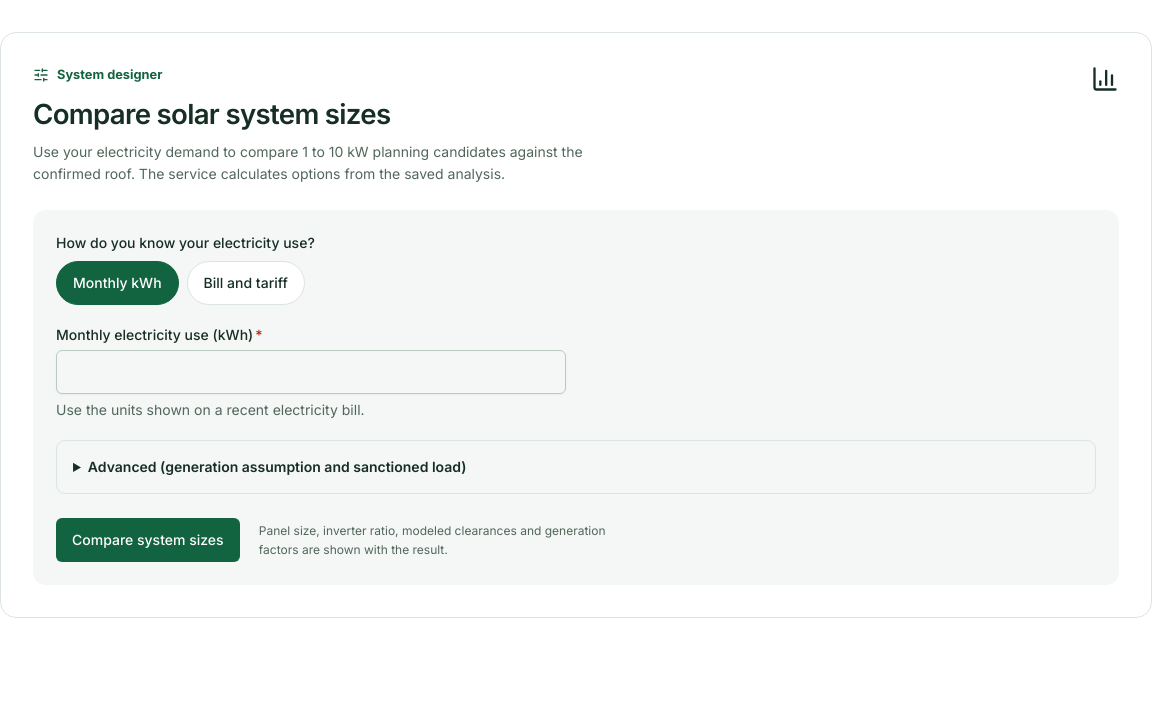
Scenario: system designer › submits monthly use for the saved analysis and explains the recommendation
Click the button "Compare system sizes" at (148, 540), box [56,518,240,562]
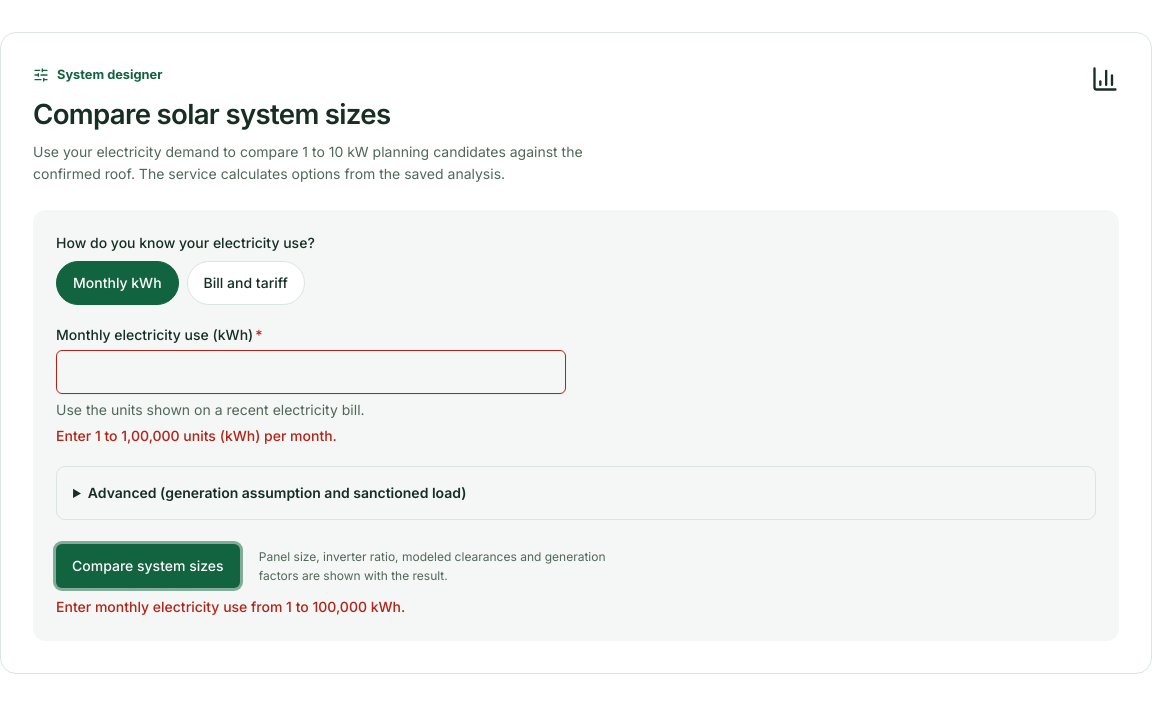
Now the message shows "monthly electricity use", box [56,598,405,615]
Type "300" into the number field labelled "Monthly electricity use (kWh)" at (311, 372), box [56,350,566,394]
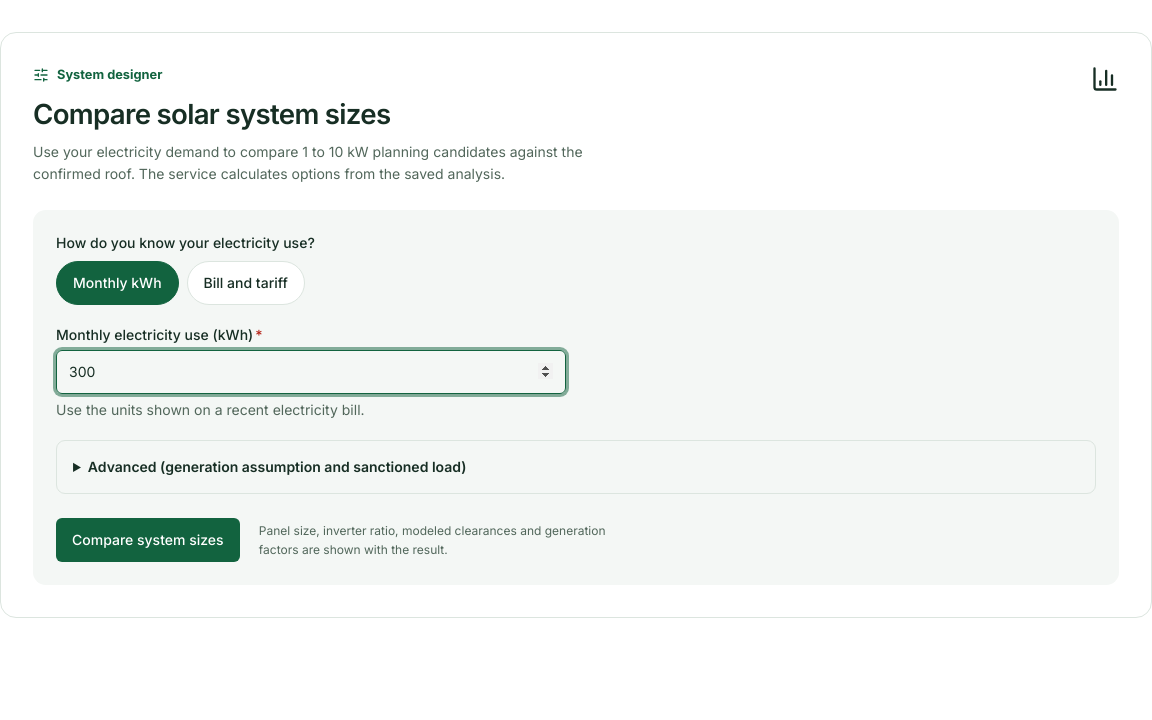
Click the button "Compare system sizes" at (148, 540), box [56,518,240,562]
(page scrolled)
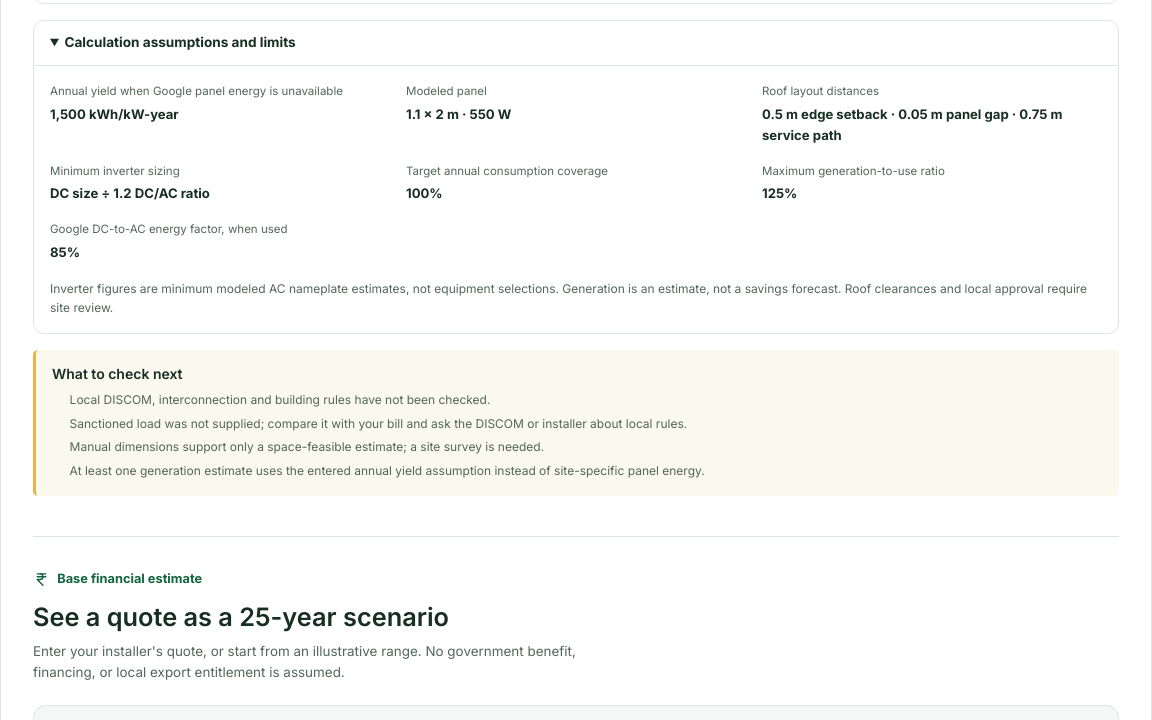
Now the text "Roof layout distances" is shown, box [762,84,879,98]
Now the list item "Local DISCOM, interconnection and building rules have not been checked" is shown, box [70,392,490,407]
